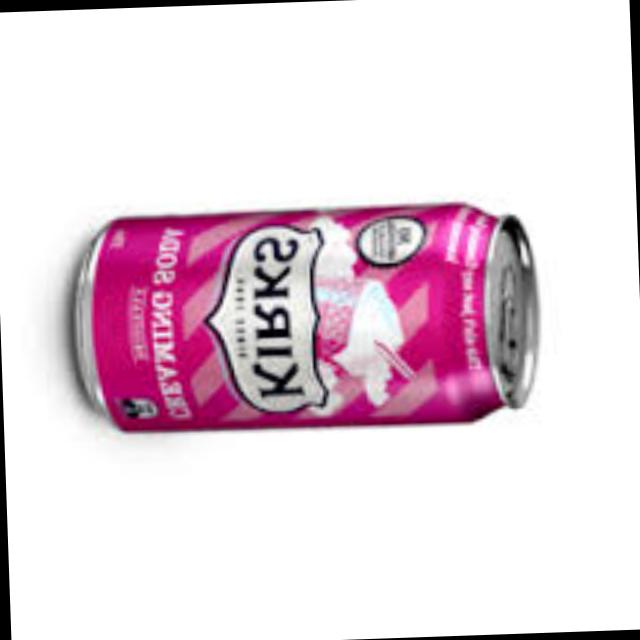metal: (81, 209, 543, 432)
